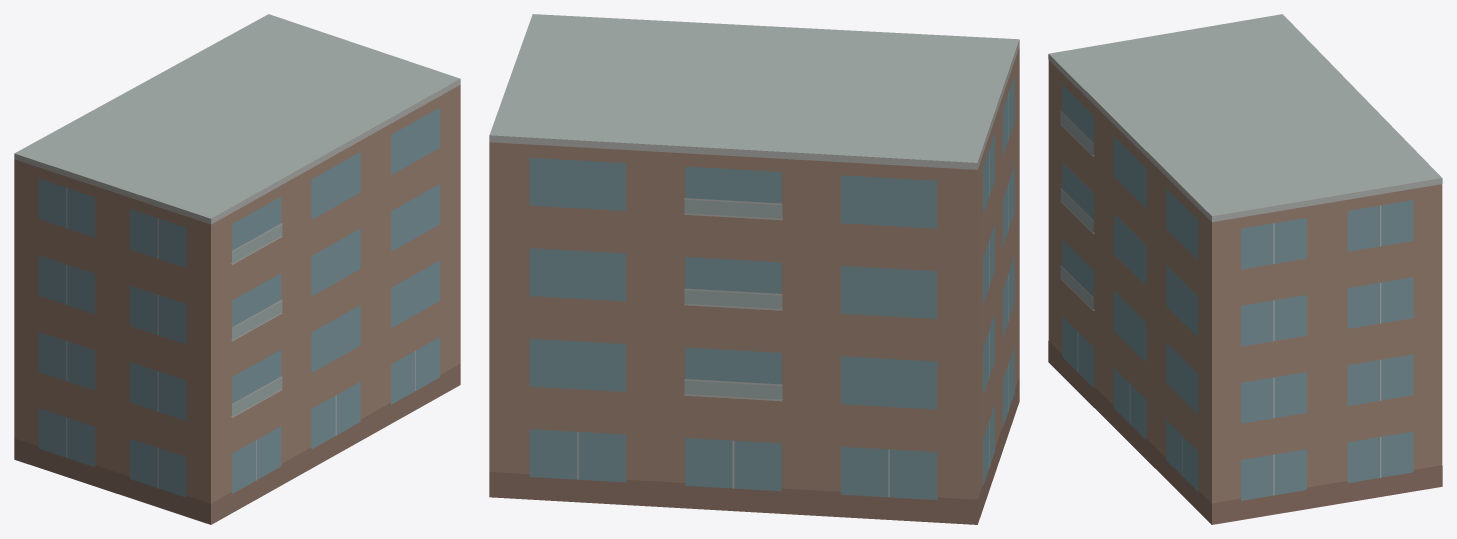
The model's file is survey-upis-32978911.glb.
The picture shows the model from 3 angles, left to right: view 1: azimuth 30°, elevation 25°; view 2: azimuth 150°, elevation 25°; view 3: azimuth 270°, elevation 25°; orthographic projection. The views are drawn at different scales.
Parts seen in each view (by area): view 1: survey-upis-32978911.tmp; view 2: survey-upis-32978911.tmp; view 3: survey-upis-32978911.tmp.
Boxes of the visible parts, left/top/right/bottom form: survey-upis-32978911.tmp: left=14, top=14, right=460, bottom=524; survey-upis-32978911.tmp: left=489, top=14, right=1019, bottom=524; survey-upis-32978911.tmp: left=1048, top=14, right=1442, bottom=524.
Size of the model in its own units: 18.01 by 12.8 by 14.82.
